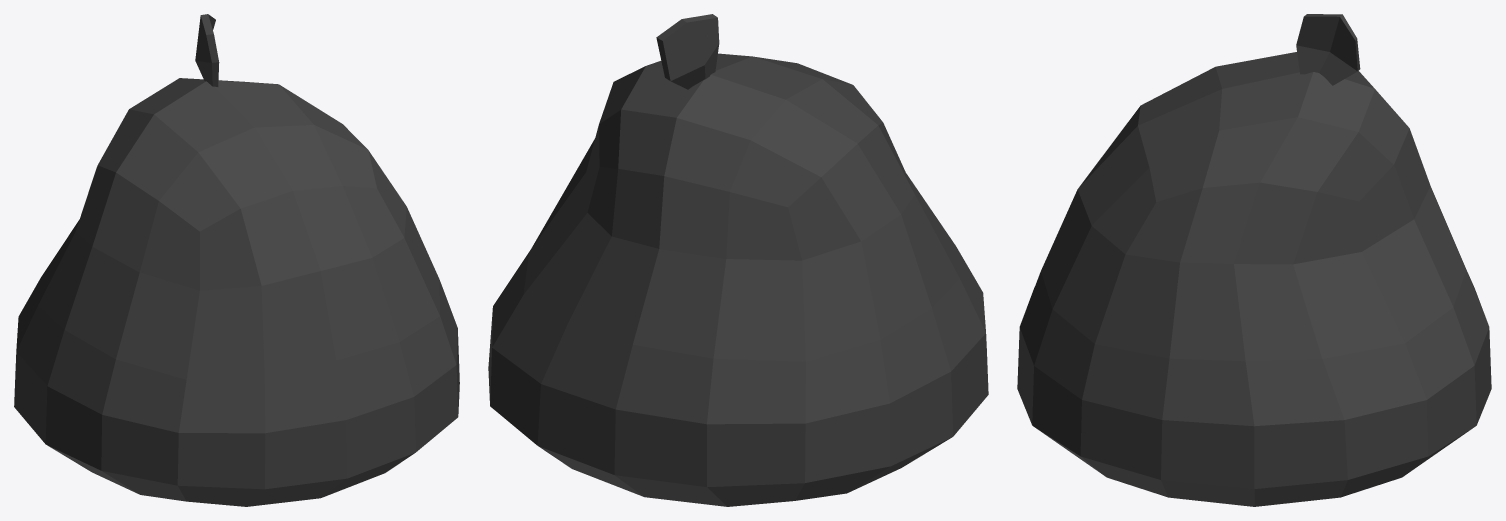
The model's file is bag1.fbx.
The picture shows the model from 3 angles, left to right: view 1: azimuth 30°, elevation 25°; view 2: azimuth 150°, elevation 25°; view 3: azimuth 270°, elevation 25°; orthographic projection. The views are drawn at different scales.
Visible parts, largest first — view 1: Cube; view 2: Cube; view 3: Cube.
Part boxes in pixels (x1,y1,x2,y2): Cube: [14, 14, 459, 506]; Cube: [488, 14, 988, 506]; Cube: [1017, 14, 1491, 506].
Bounding box in the file's own units: 454 × 469 × 454.
